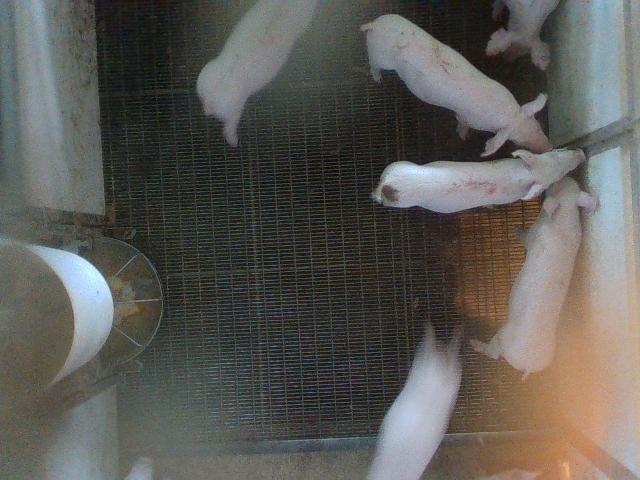pig-3: (196, 0, 316, 146)
pig-5: (372, 150, 585, 212)
